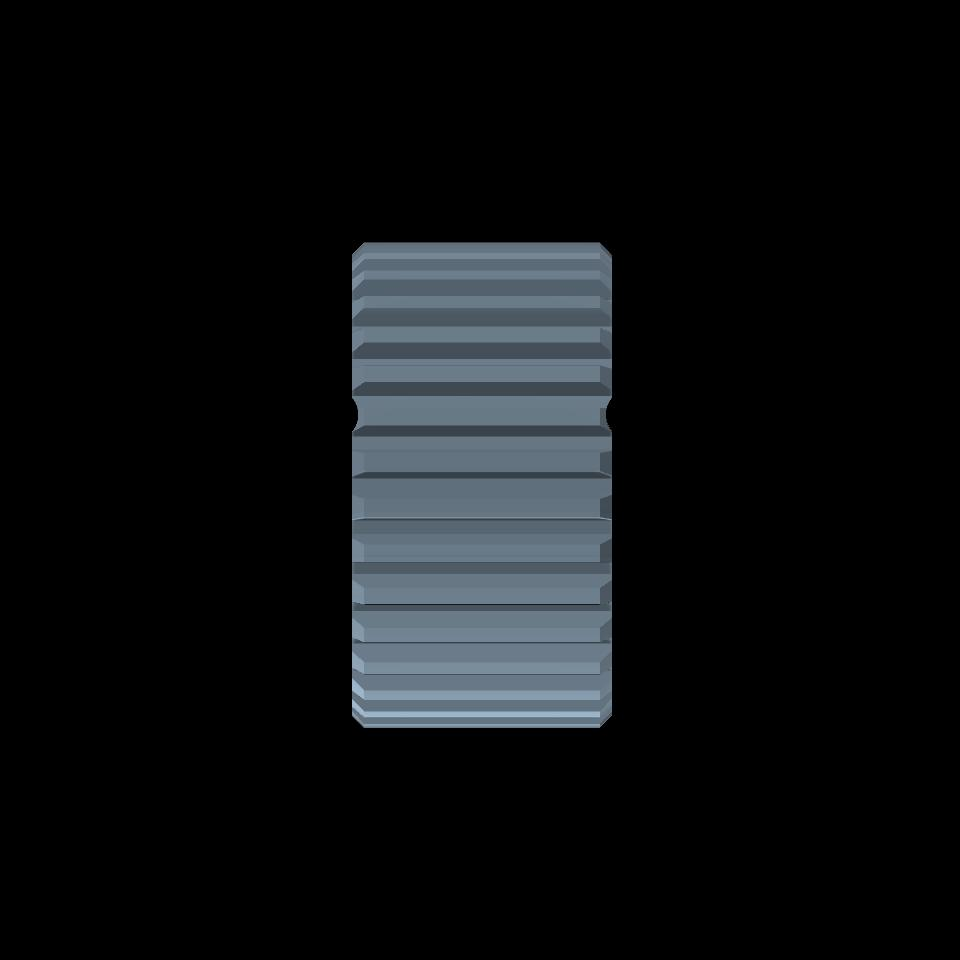Straight: (364, 243, 597, 725)
